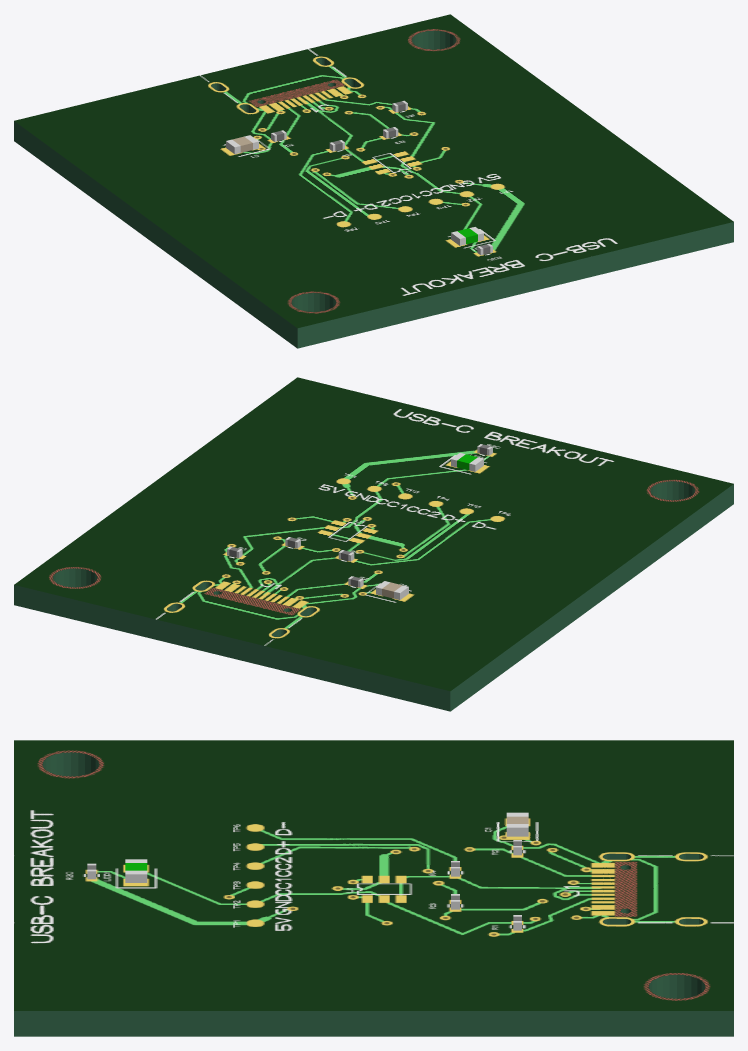
The picture shows the model from 3 angles, top to bottom: view 1: azimuth 30°, elevation 25°; view 2: azimuth 150°, elevation 25°; view 3: azimuth 270°, elevation 25°; orthographic projection. The views are drawn at different scales.
Parts seen in each view (by area): view 1: Box0; view 2: Box0; view 3: Box0, C1, LED1.
Part boxes in pixels (box(x1,y1,x2,y2)): Box0: box(14, 14, 733, 348); Box0: box(14, 377, 733, 711); Box0: box(14, 740, 733, 1036); C1: box(506, 812, 528, 836); LED1: box(125, 859, 147, 882).
Size of the model in its own units: 36 by 2.15 by 40.5.
7 materials, 2 textured.
